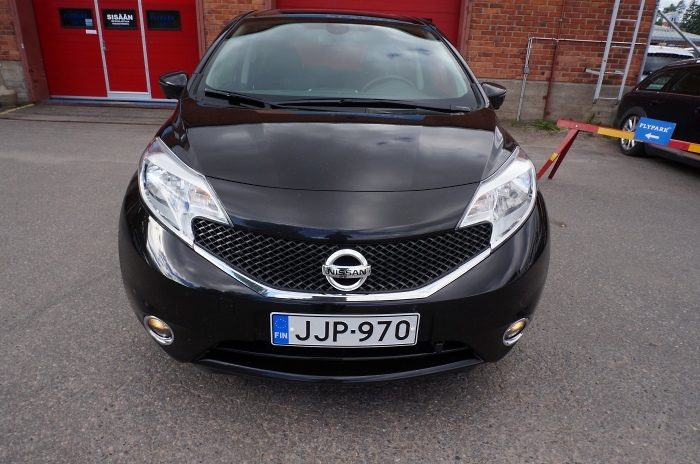license: (268, 309, 416, 348)
